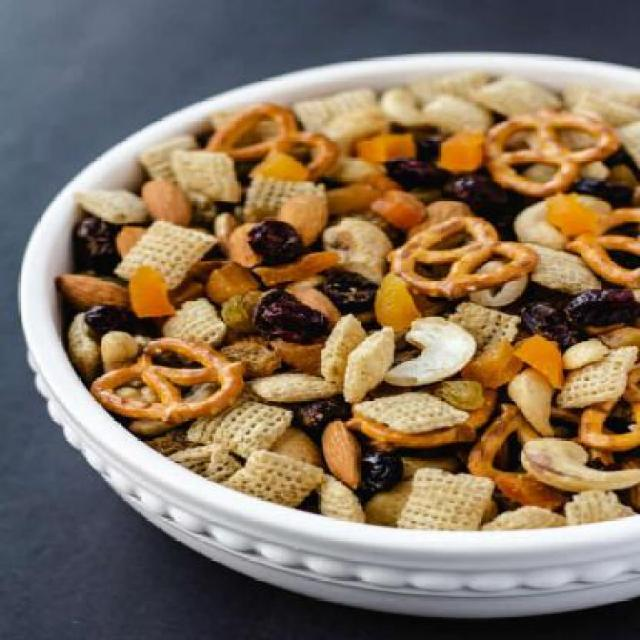Salatini packaged: (58, 49, 640, 568)
